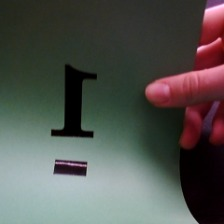green1: (40, 61, 104, 185)
